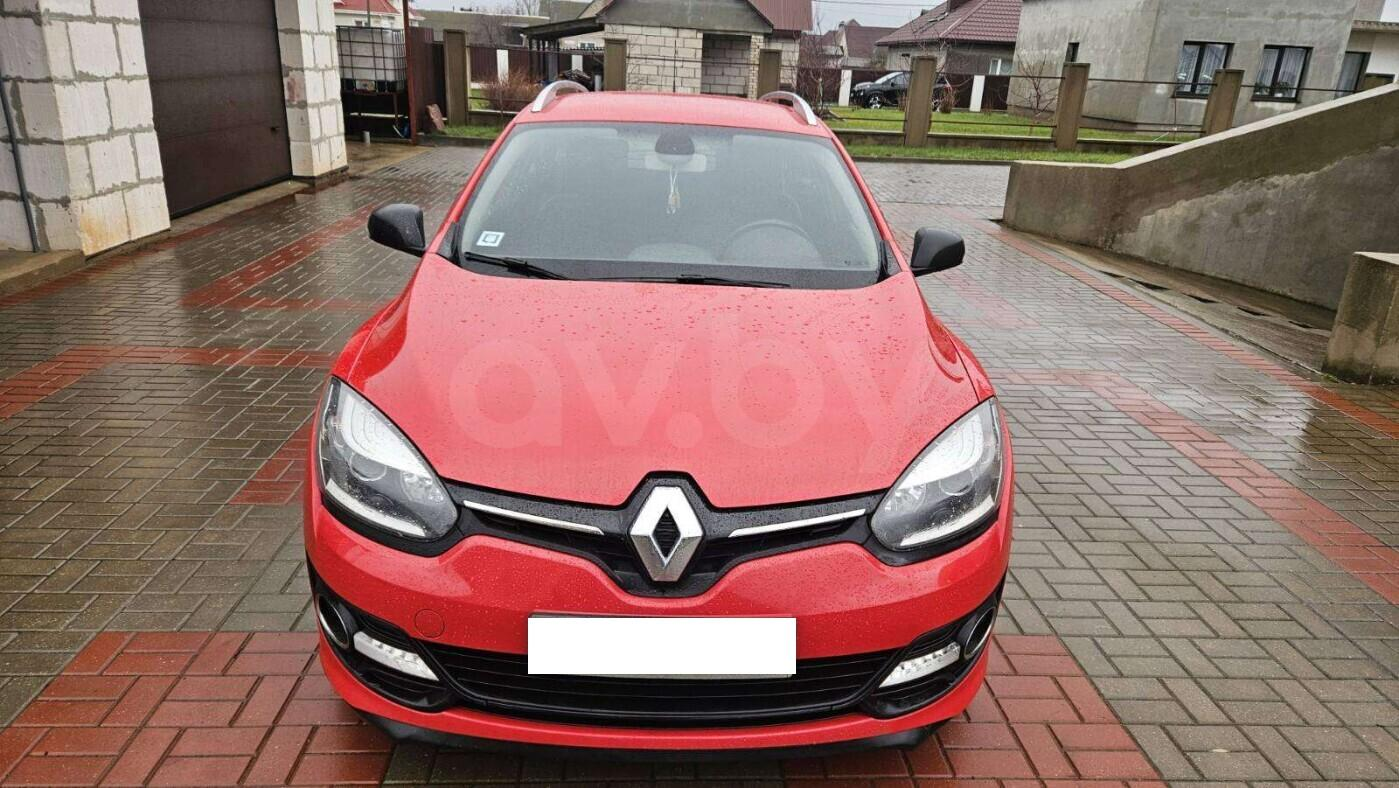Megane_2012-2014: (303, 84, 1018, 736)
